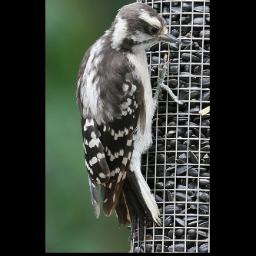Woodpecker: (76, 2, 185, 234)
